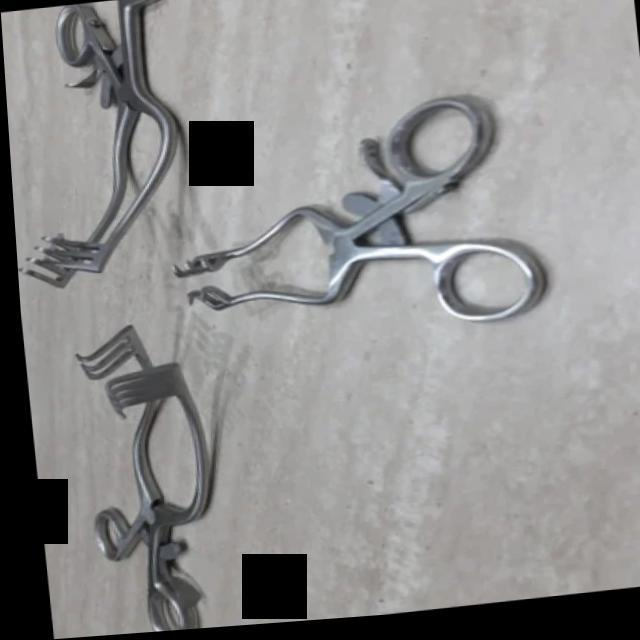Self Retractor: (164, 80, 552, 364), (16, 313, 212, 640), (0, 0, 222, 287)
